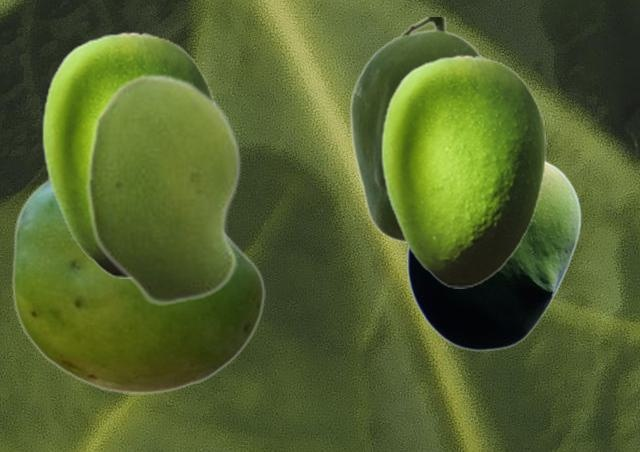green_mango: (11, 177, 264, 394), (41, 31, 217, 277), (380, 54, 546, 287), (86, 73, 241, 306), (406, 159, 581, 350), (348, 17, 482, 245)
